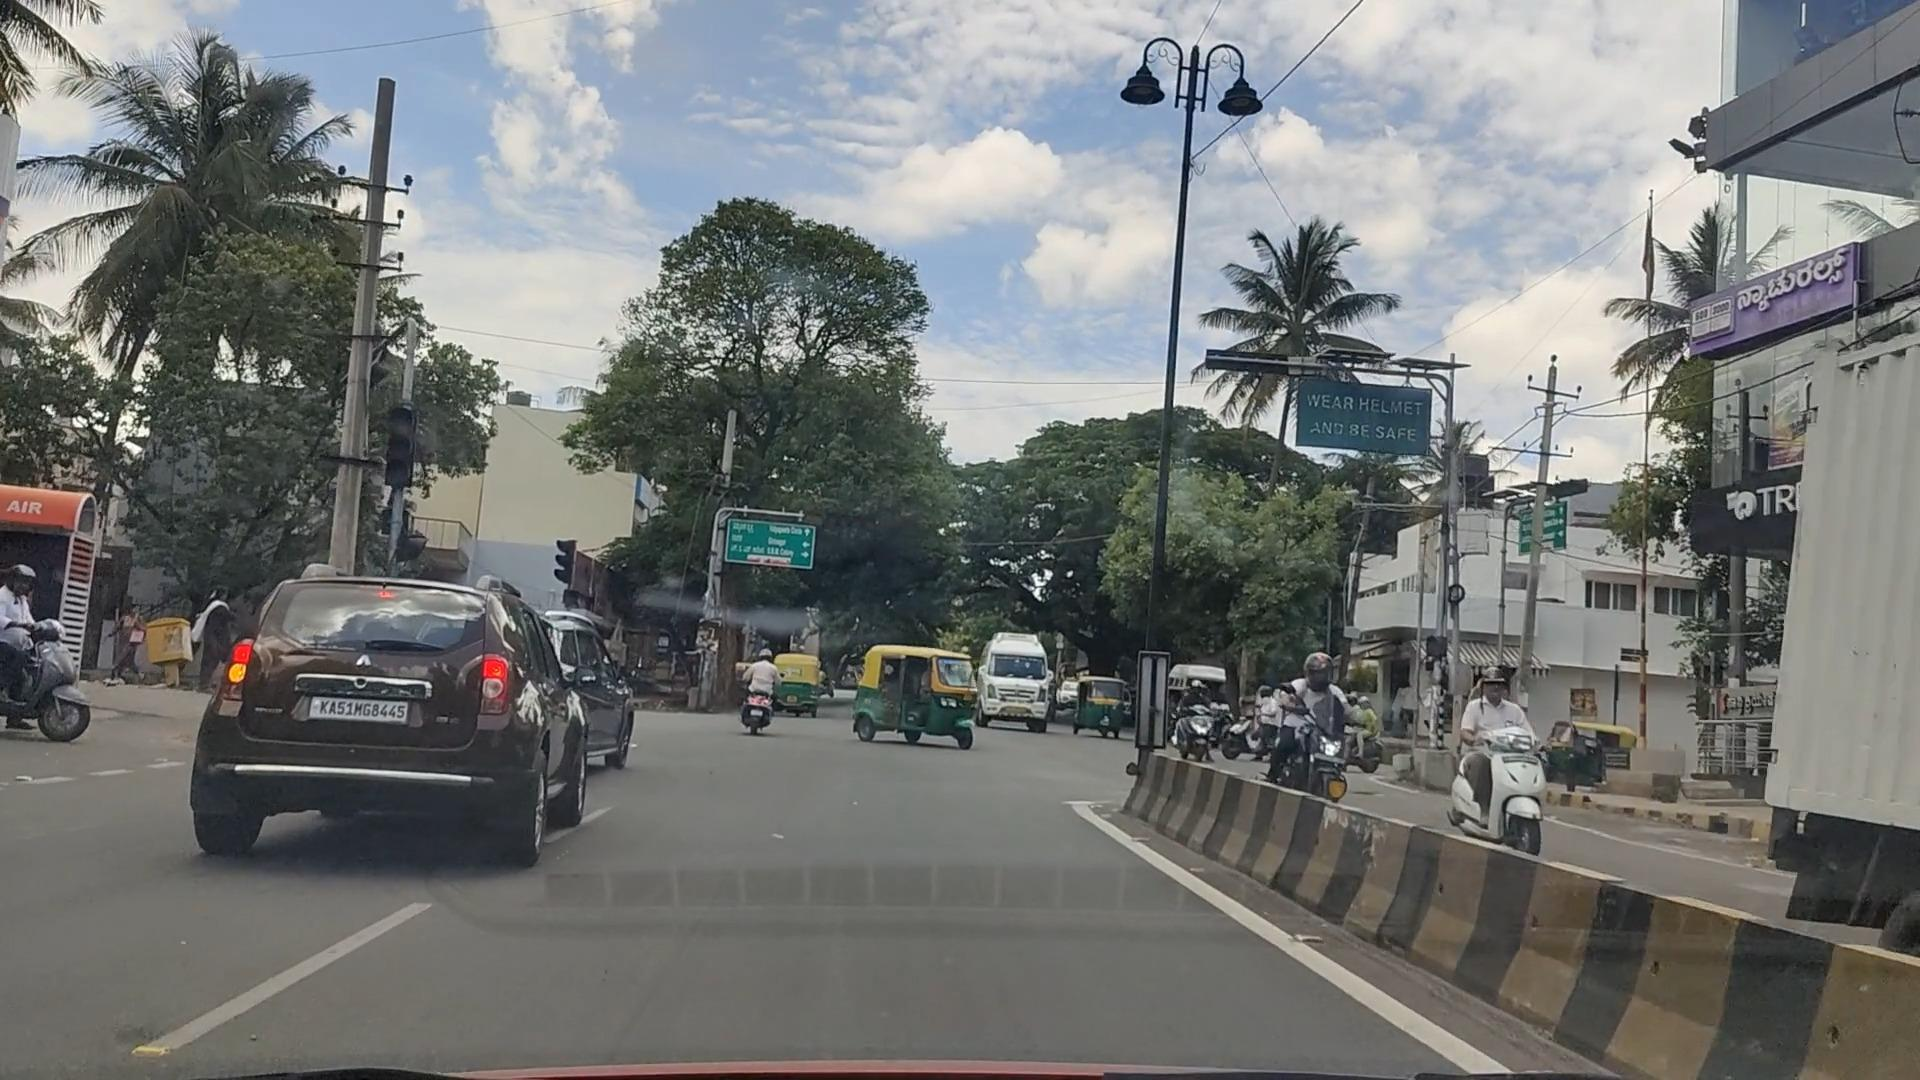LMV: (231, 591, 599, 866)
